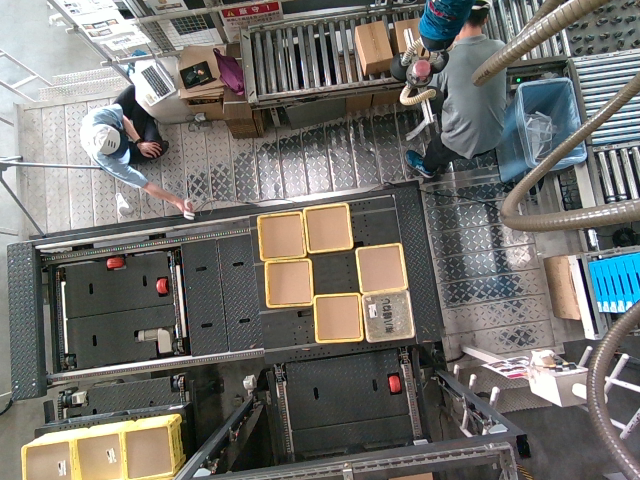box: (259, 212, 306, 258), (306, 204, 353, 250), (265, 259, 312, 305), (356, 245, 403, 291), (313, 297, 360, 343), (366, 295, 413, 341)
